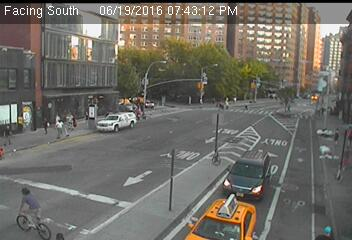neg: (3, 181, 41, 232), (246, 164, 275, 202), (123, 46, 150, 83), (100, 114, 126, 149), (148, 147, 172, 180), (290, 127, 313, 158), (213, 200, 236, 231), (225, 111, 248, 141), (274, 80, 297, 110), (55, 129, 77, 158), (245, 89, 265, 116), (177, 74, 197, 100), (99, 185, 118, 210), (200, 49, 219, 73), (85, 50, 102, 73), (196, 146, 212, 167), (59, 74, 75, 95)
